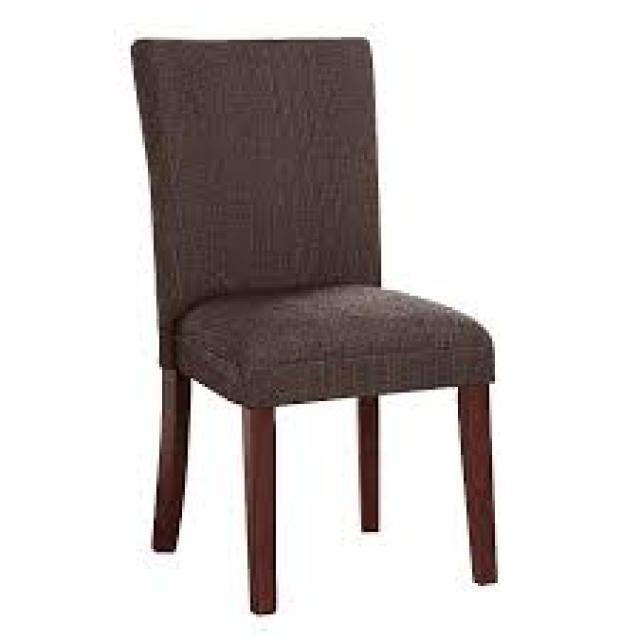bottle: (129, 33, 501, 614)
